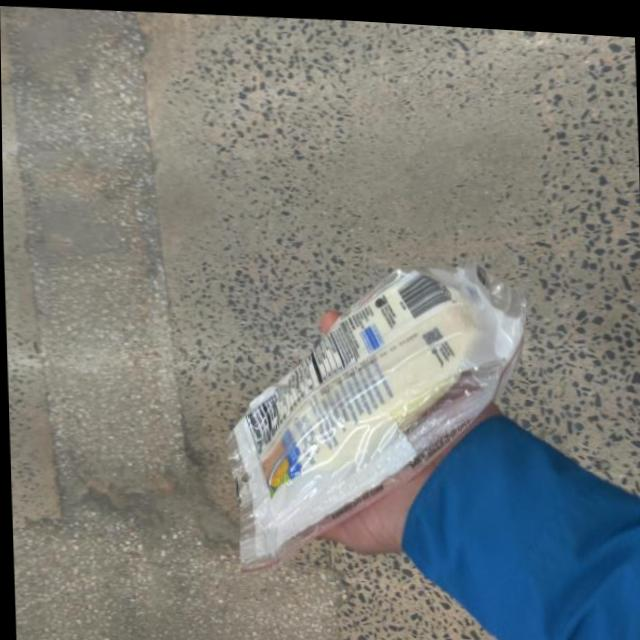Cheese: (221, 250, 516, 579)
